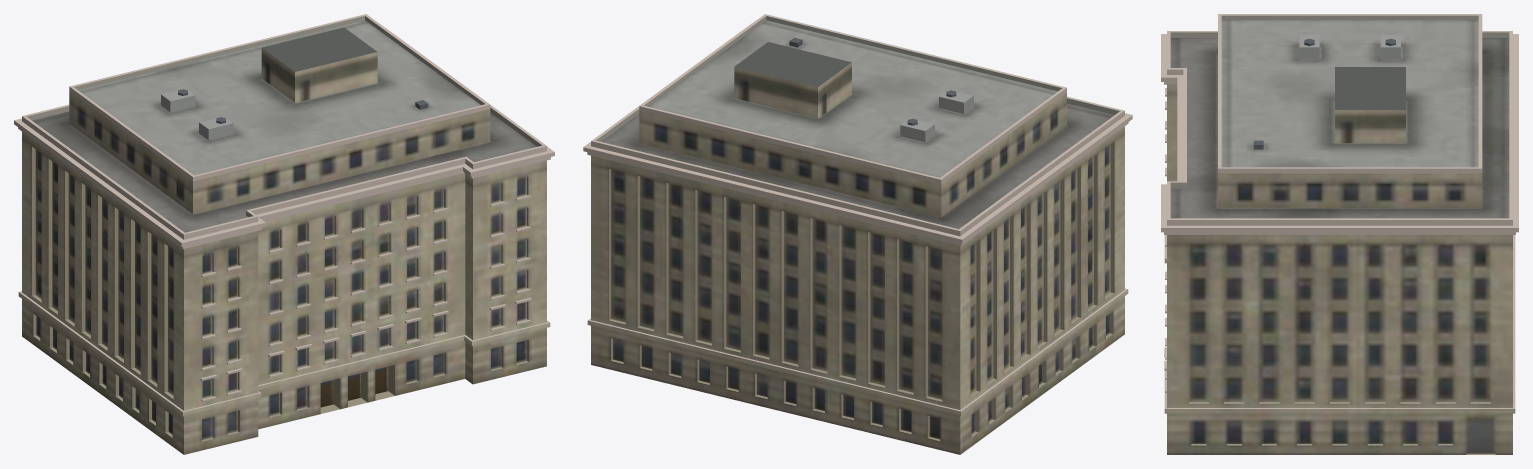
The model's file is dc_fed_plain_c.glb.
3 views of the same model, side by side, from view 1: azimuth 30°, elevation 25°; view 2: azimuth 150°, elevation 25°; view 3: azimuth 270°, elevation 25° (orthographic). The views are drawn at different scales.
Visible parts, largest first — view 1: dc_fed_plain_c; view 2: dc_fed_plain_c; view 3: dc_fed_plain_c.
Part boxes in pixels (x1=…): dc_fed_plain_c: x1=14, y1=14, x2=554, y2=454; dc_fed_plain_c: x1=583, y1=14, x2=1132, y2=454; dc_fed_plain_c: x1=1161, y1=14, x2=1518, y2=454.
Bounding box in the file's own units: 45.2 × 32.3 × 35.2.
1 material, 1 textured.
